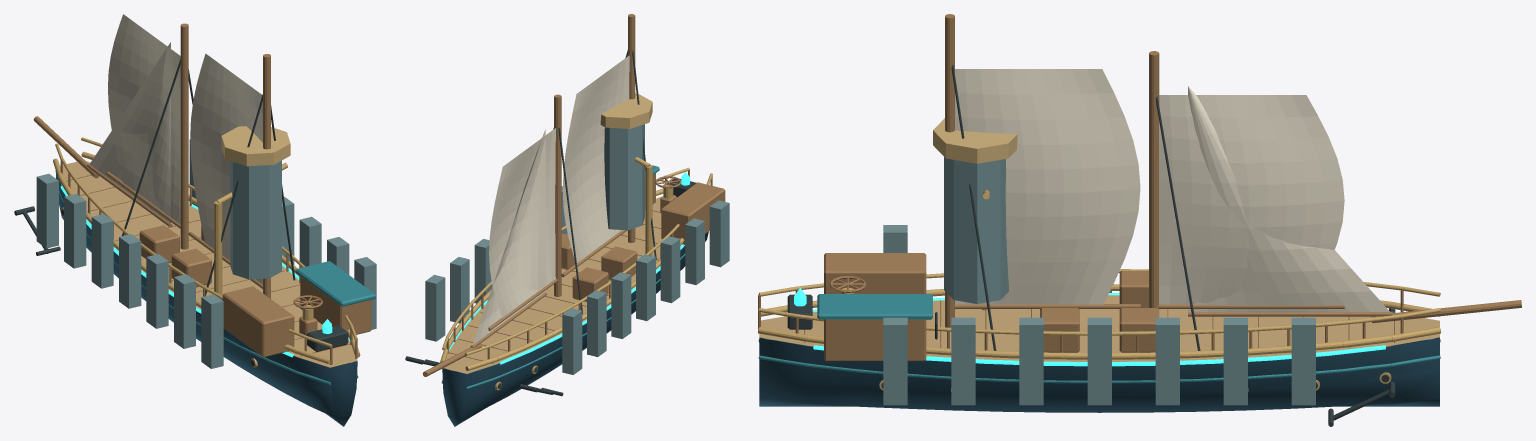
The model's file is premium_salvage_schooner.glb.
3 views of the same model, side by side, from view 1: azimuth 30°, elevation 25°; view 2: azimuth 150°, elevation 25°; view 3: azimuth 270°, elevation 25° (orthographic). The views are drawn at different scales.
Visible parts, largest first — view 1: premium_salvage_schooner; view 2: premium_salvage_schooner; view 3: premium_salvage_schooner.
Part boxes in pixels (x1,y1,x2,y2): premium_salvage_schooner: (14,14,376,426); premium_salvage_schooner: (405,14,729,426); premium_salvage_schooner: (758,14,1521,426).
Bounding box in the file's own units: 4.18 × 7.6 × 13.47.
